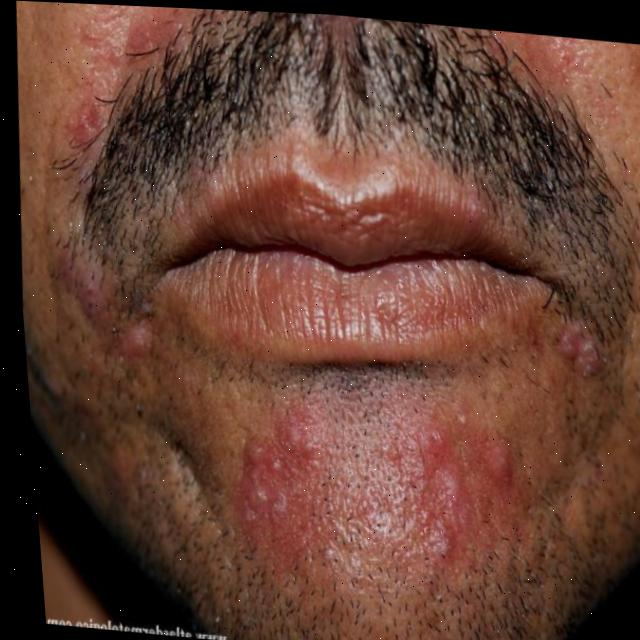Rosacea: (196, 347, 618, 591)
